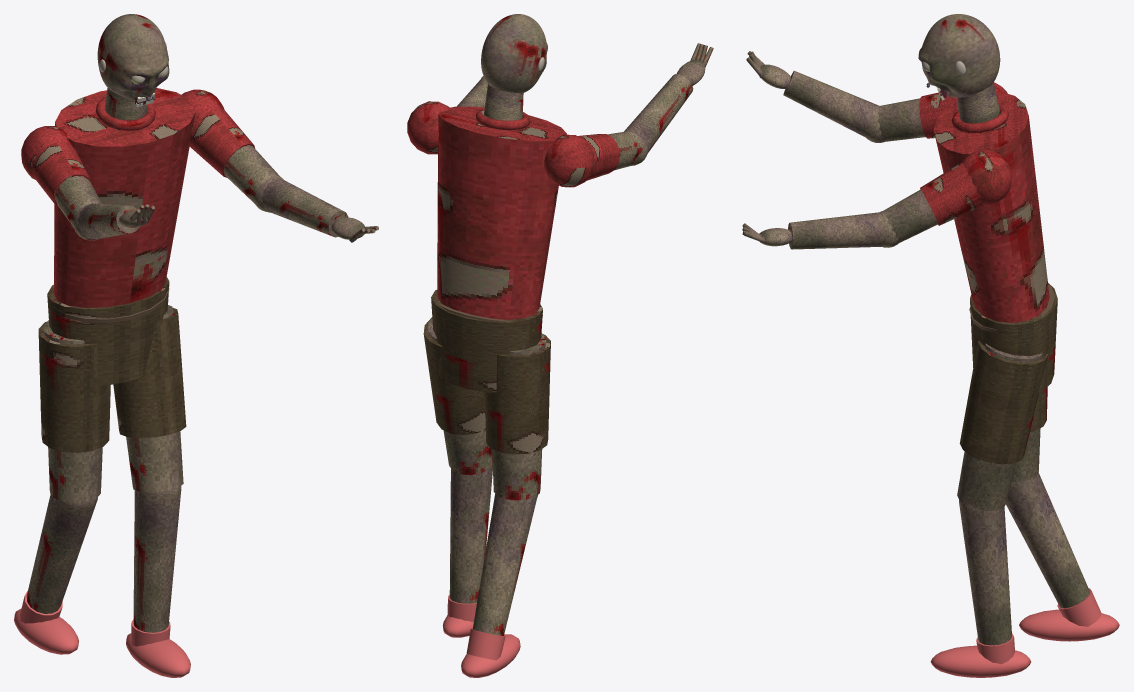
File: Zombie_001.glb
3 renders of one model, left to right at view 1: azimuth 30°, elevation 25°; view 2: azimuth 150°, elevation 25°; view 3: azimuth 270°, elevation 25°, orthographic. The views are drawn at different scales.
Parts seen in each view (by area): view 1: Zombie_001, object 16, object 10, object 3; view 2: Zombie_001, object 16, object 3, object 10, object 4; view 3: Zombie_001, object 16, object 10, object 3.
Boxes of the visible parts, bbox=[...] form: Zombie_001: bbox=[14, 88, 279, 677]; object 16: bbox=[97, 14, 169, 100]; object 10: bbox=[261, 178, 348, 237]; object 3: bbox=[77, 203, 139, 239]; Zombie_001: bbox=[407, 84, 642, 677]; object 16: bbox=[481, 14, 547, 93]; object 3: bbox=[624, 74, 693, 152]; object 10: bbox=[457, 78, 487, 107]; object 4: bbox=[676, 60, 705, 85]; Zombie_001: bbox=[877, 82, 1119, 677]; object 16: bbox=[918, 14, 1000, 98]; object 10: bbox=[788, 212, 884, 249]; object 3: bbox=[783, 70, 879, 137].
Bounding box in the file's own units: 0.6731 × 1.78 × 0.9481.
Materials: 15 (5 with a texture image).
